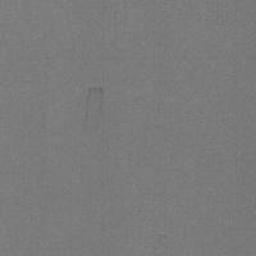Water spot: (85, 87, 104, 130)
